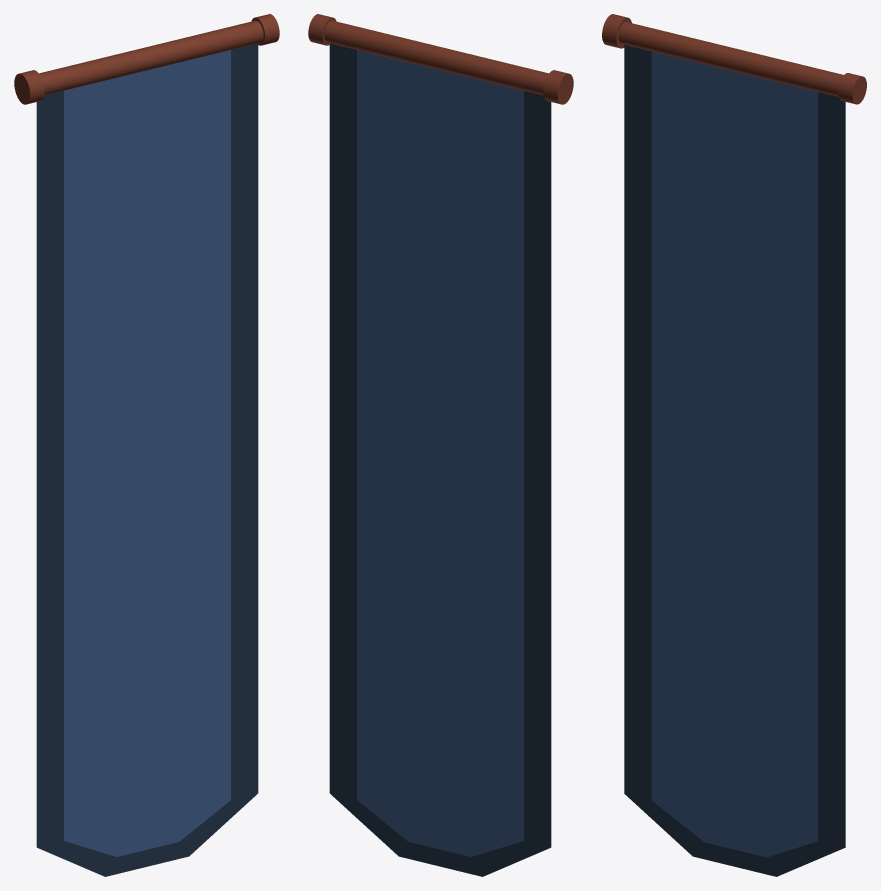
File: lib_banner.fbx
3 renders of one model, left to right at view 1: azimuth 30°, elevation 25°; view 2: azimuth 150°, elevation 25°; view 3: azimuth 330°, elevation 25°, orthographic.
Parts seen in each view (by area): view 1: BannerBeam; view 2: BannerBeam; view 3: BannerBeam.
Part boxes in pixels (x1,y1,x2,y2): BannerBeam: (14, 14, 279, 876); BannerBeam: (308, 14, 573, 876); BannerBeam: (602, 14, 866, 876).
Size of the model in its own units: 839 by 2635 by 92.68.
